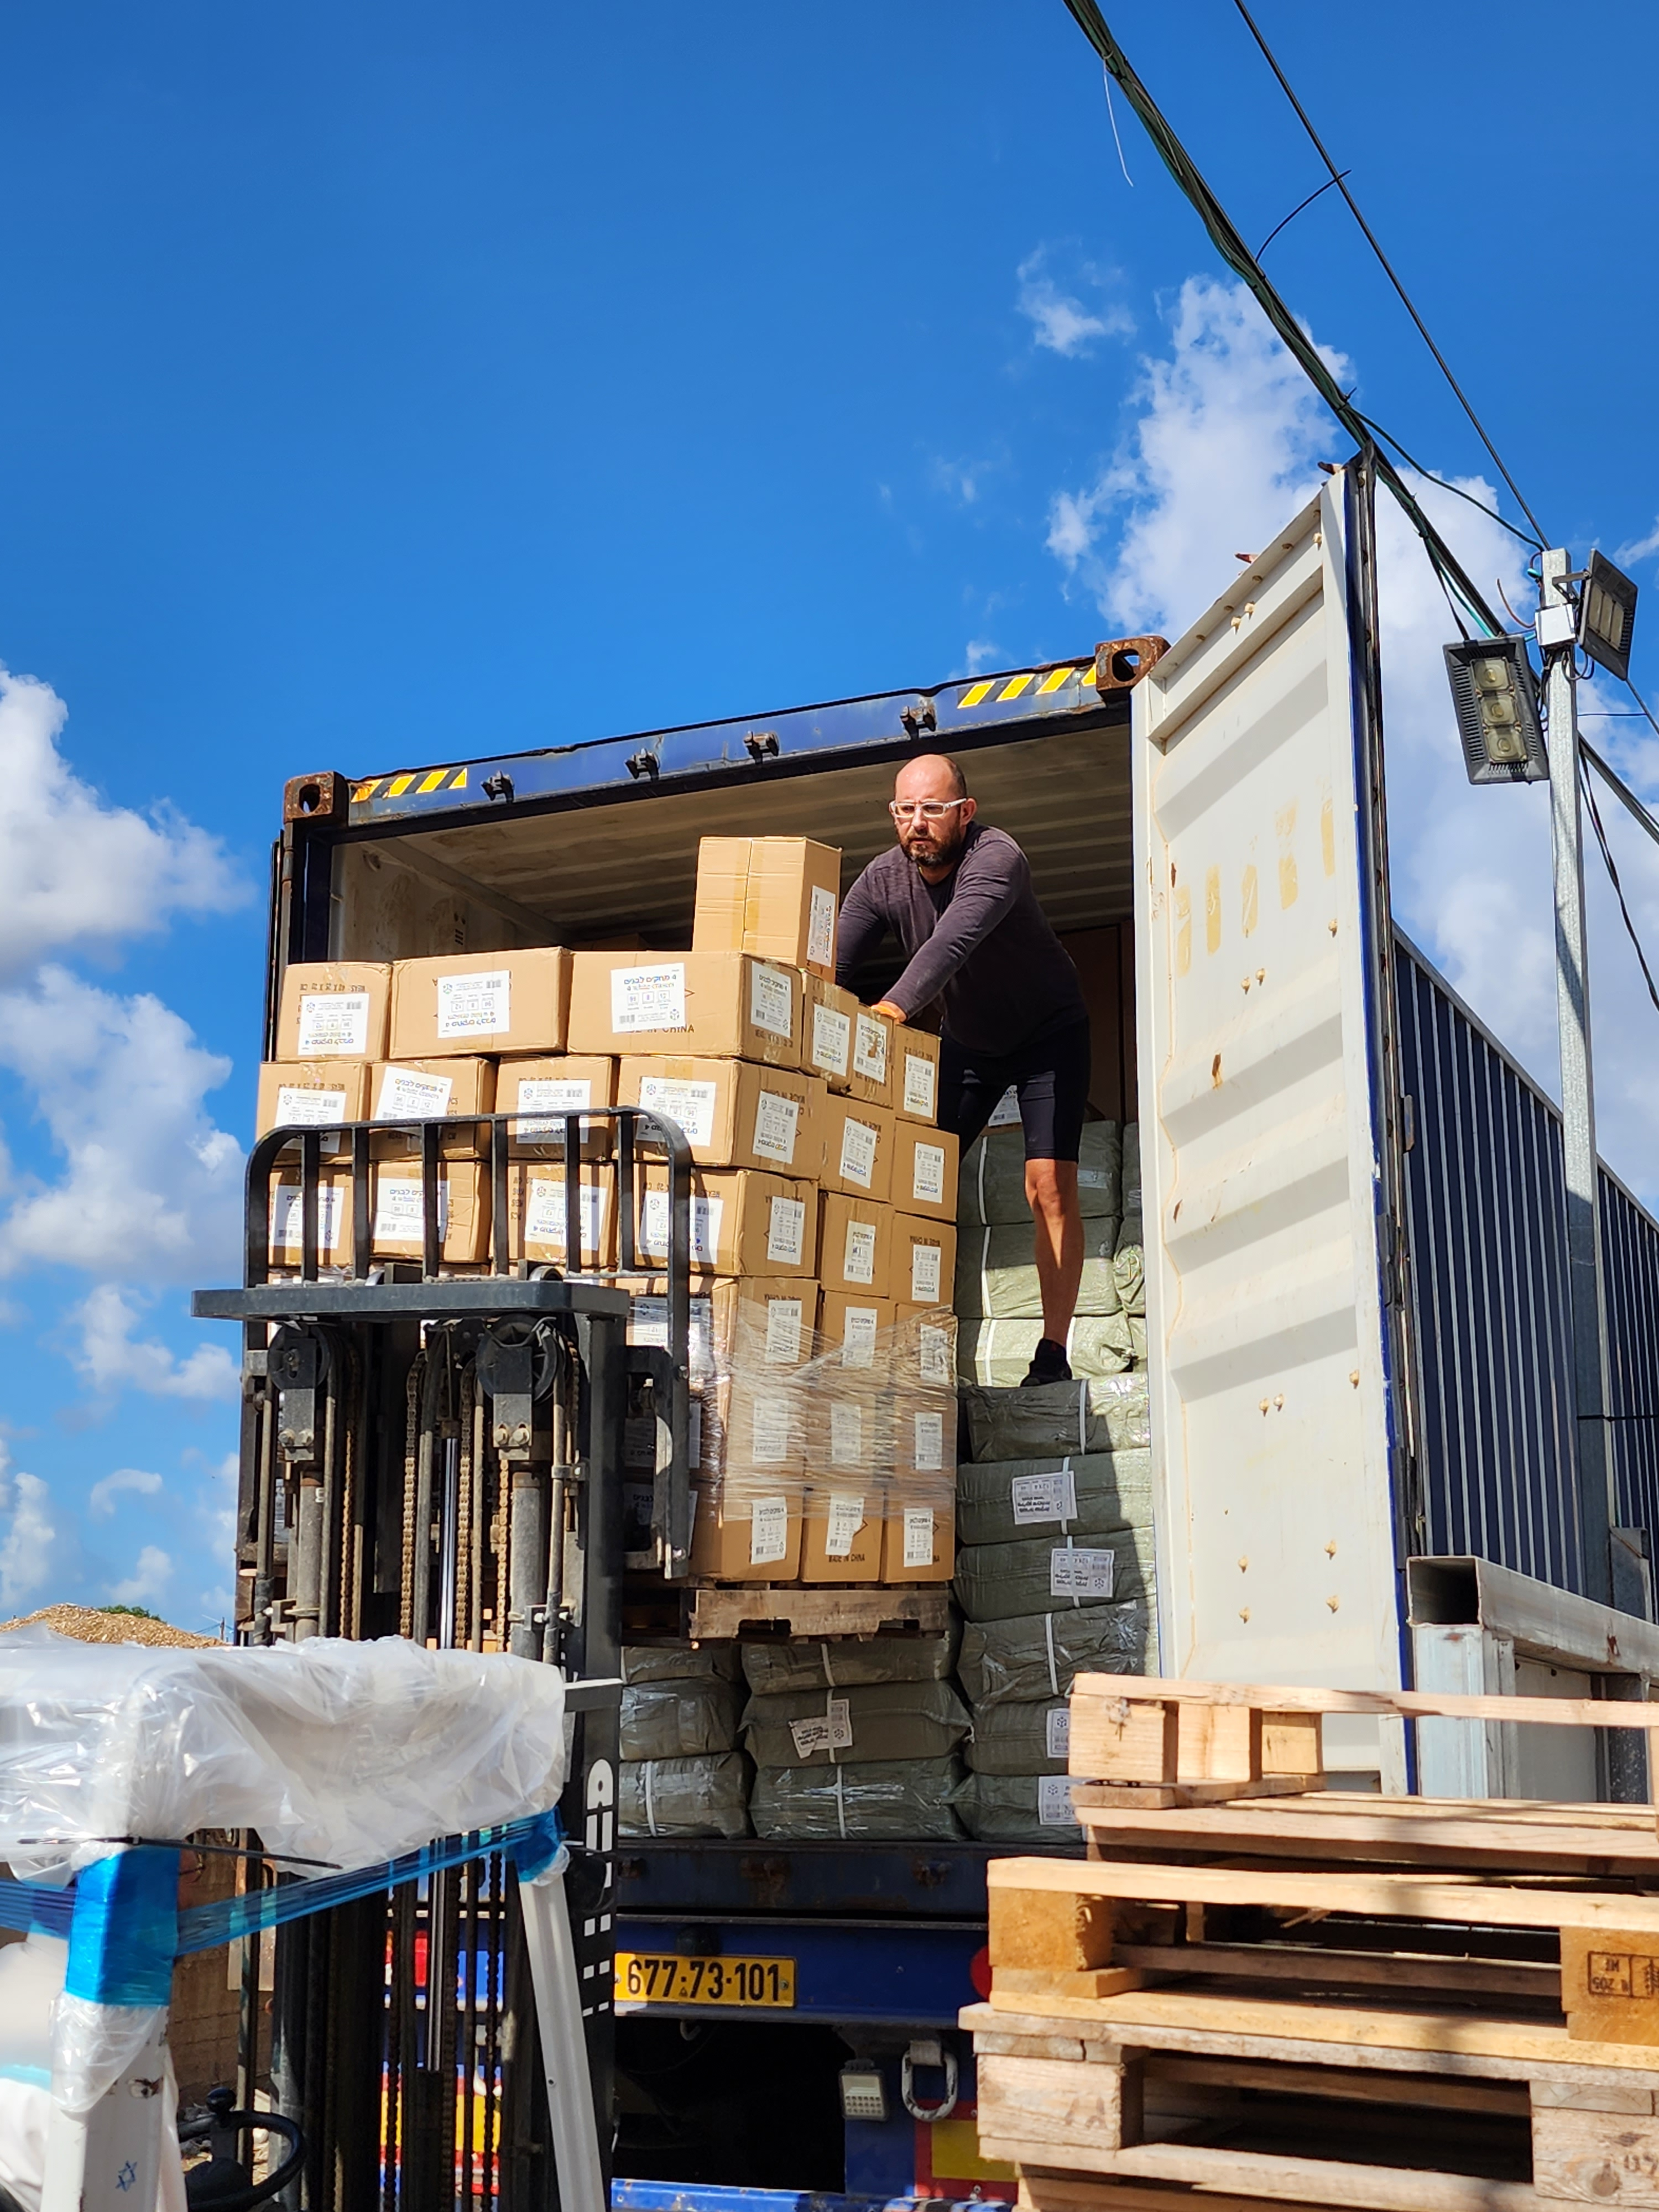box: (568, 918, 809, 1066), (692, 799, 866, 960), (392, 923, 561, 1050), (254, 934, 396, 1076)
